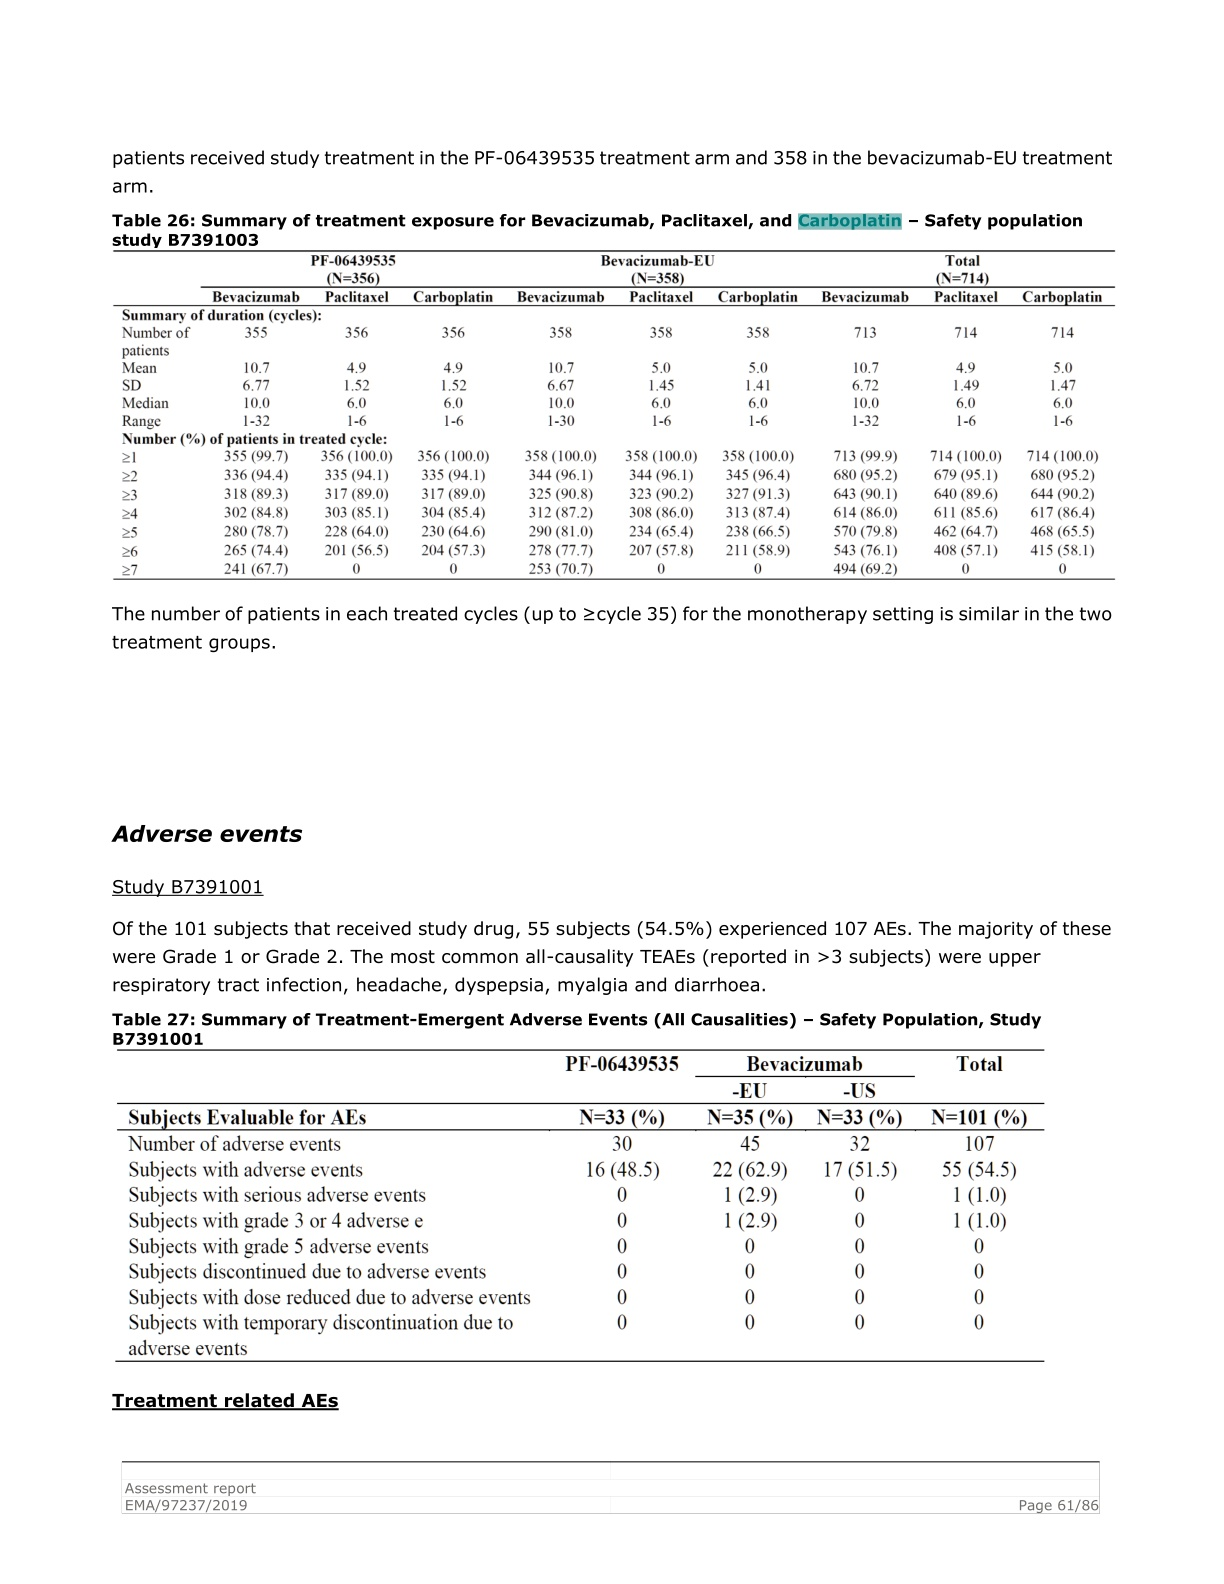partial_lined_merged_cells: (113, 249, 1119, 581), (114, 1049, 1047, 1363)
